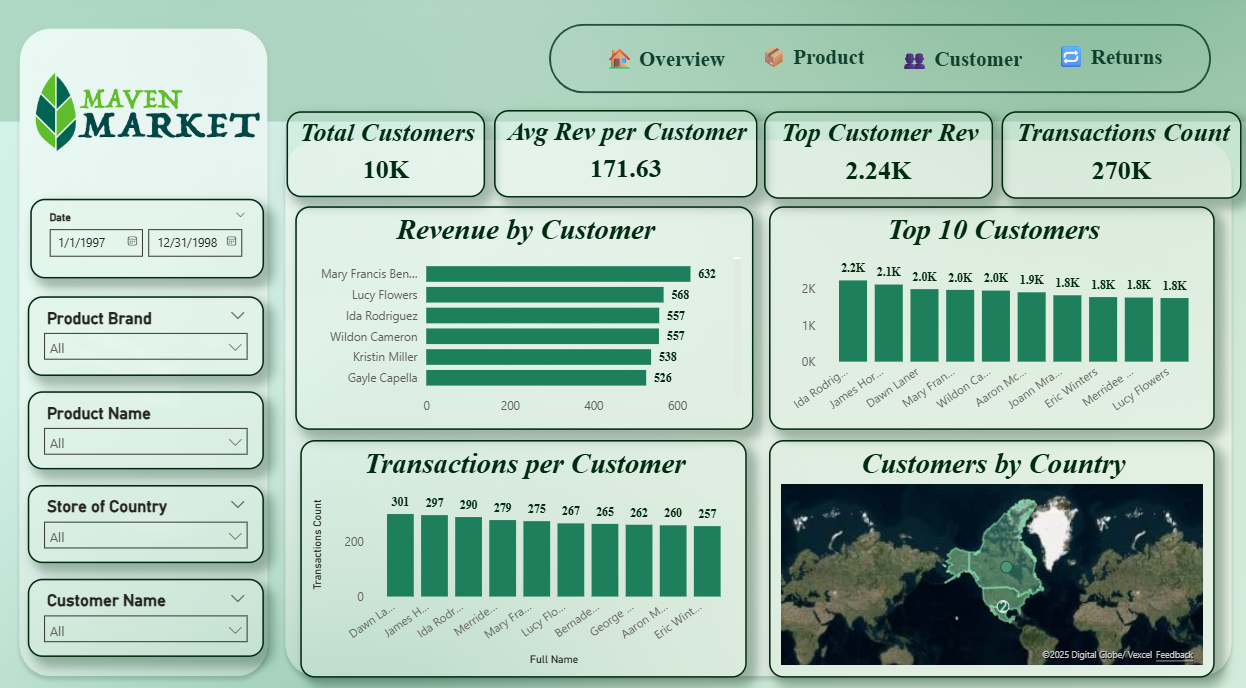

The dashboard page shown, as its layout file describes it:
{"tool":"powerbi","page":{"name":"Customer","canvas":[1280,720],"ordinal":3},"visuals":[{"type":"image","box":[30.6,43.1,240.7,151.7],"z":0},{"type":"shape","box":[563.2,29,677.3,71.2],"z":1000},{"type":"actionButton","box":[613.7,44.1,135,41.7],"z":2000},{"type":"actionButton","box":[768.6,42.7,126.6,40.3],"z":3000},{"type":"actionButton","box":[915.1,44.1,137.7,41.7],"z":4000},{"type":"actionButton","box":[1072.8,42.7,126.6,40.3],"z":5000},{"type":"card","title":"Total Customers","fields":{"Values":["Measure.Total Customers"]},"box":[294.1,118.9,203.3,88.2],"z":6000},{"type":"card","title":"Avg Rev per Customer","fields":{"Values":["Measure.Avg Revenue per Customer"]},"box":[506.4,117.6,269.8,89.5],"z":7000},{"type":"card","title":"Top Customer Rev","fields":{"Values":["Measure.Top Customer Revenue"]},"box":[782.6,118.9,234,89.5],"z":8000},{"type":"card","title":"Transactions Count","fields":{"Values":["Measure.Transactions Count"]},"box":[1025.5,118.9,245.5,89.5],"z":9000},{"type":"clusteredBarChart","title":"Revenue by Customer","fields":{"Category":["Dim_Customers.Full Name"],"Y":["Measure.Total Revenue"]},"box":[302.7,216.7,468.7,229],"z":10000},{"type":"clusteredColumnChart","title":"Top 10 Customers","fields":{"Y":["Measure.Total Revenue"],"Category":["Dim_Customers.Full Name"]},"box":[788.3,216.7,456.4,229],"z":11000},{"type":"azureMap","title":"Customers by Country","fields":{"Category":["Dim_Customers.customer_country"]},"box":[788,455,456,243],"z":12000},{"type":"clusteredColumnChart","title":"Transactions per Customer","fields":{"Y":["Measure.Transactions Count"],"Category":["Dim_Customers.Full Name"]},"box":[308.5,455.3,462.8,242.6],"z":13000},{"type":"slicer","fields":{"Values":["Dim_Products.product_brand"]},"box":[29.2,308.1,241.2,81.4],"z":14000},{"type":"slicer","fields":{"Values":["Dim_Products.product_name"]},"box":[29.2,405.7,241.2,79.9],"z":15000},{"type":"slicer","fields":{"Values":["Dim_Stores.store_country"]},"box":[29.2,501.7,241.2,79.9],"z":16000},{"type":"slicer","fields":{"Values":["Dim_Customers.Full Name"]},"box":[29.2,597.7,241.2,79.9],"z":17000},{"type":"slicer","fields":{"Values":["Dim_Calendar.date"]},"box":[32,208.4,239.1,81.8],"z":18000}]}

Visuals, with their boxes in screenshot pixels (x1, y1, x2, y2), scaled from the page's 1280x720 canvas onto the 1246x688 screenshot:
image: bbox=(30, 41, 264, 186)
shape: bbox=(548, 28, 1208, 96)
actionButton: bbox=(597, 42, 729, 82)
actionButton: bbox=(748, 41, 871, 79)
actionButton: bbox=(891, 42, 1025, 82)
actionButton: bbox=(1044, 41, 1168, 79)
"Total Customers" card: bbox=(286, 114, 484, 198)
"Avg Rev per Customer" card: bbox=(493, 112, 756, 198)
"Top Customer Rev" card: bbox=(762, 114, 990, 199)
"Transactions Count" card: bbox=(998, 114, 1237, 199)
"Revenue by Customer" clusteredBarChart: bbox=(295, 207, 751, 426)
"Top 10 Customers" clusteredColumnChart: bbox=(767, 207, 1212, 426)
"Customers by Country" azureMap: bbox=(767, 435, 1211, 667)
"Transactions per Customer" clusteredColumnChart: bbox=(300, 435, 751, 667)
slicer - Dim_Products.product_brand: bbox=(28, 294, 263, 372)
slicer - Dim_Products.product_name: bbox=(28, 388, 263, 464)
slicer - Dim_Stores.store_country: bbox=(28, 479, 263, 556)
slicer - Dim_Customers.Full Name: bbox=(28, 571, 263, 647)
slicer - Dim_Calendar.date: bbox=(31, 199, 264, 277)
